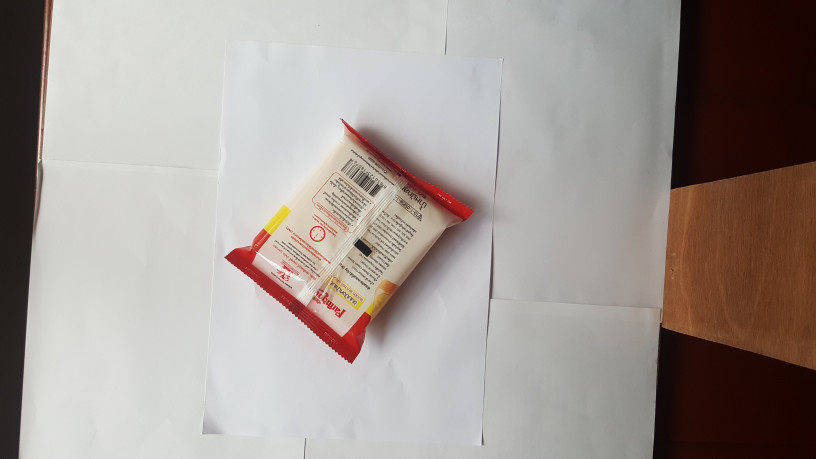farmhouse-bread-butter: (214, 109, 482, 369)
